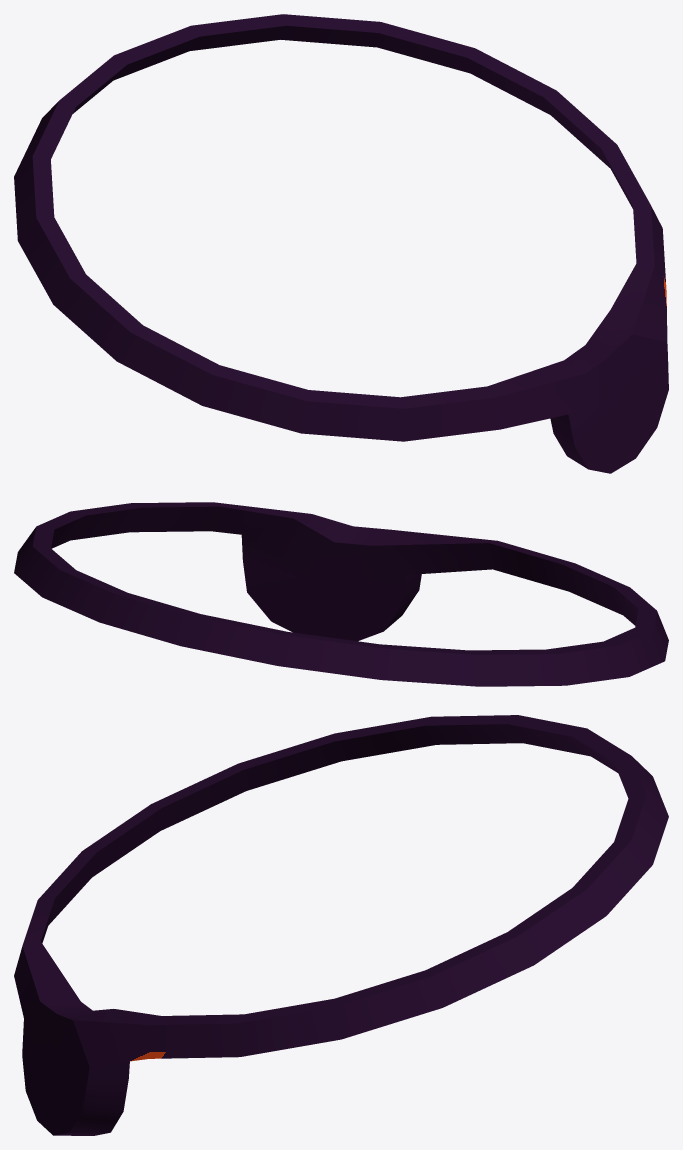
The model's file is Eyepatch.fbx.
The picture shows the model from 3 angles, top to bottom: view 1: azimuth 30°, elevation 25°; view 2: azimuth 150°, elevation 25°; view 3: azimuth 270°, elevation 25°; orthographic projection. The views are drawn at different scales.
Visible parts, largest first — view 1: Eyepatch; view 2: Eyepatch; view 3: Eyepatch.
Part boxes in pixels (left/top/right/bottom): Eyepatch: left=14, top=14, right=668, bottom=473; Eyepatch: left=14, top=502, right=668, bottom=686; Eyepatch: left=14, top=715, right=668, bottom=1135.
Size of the model in its own units: 35.81 by 15.54 by 34.59.
